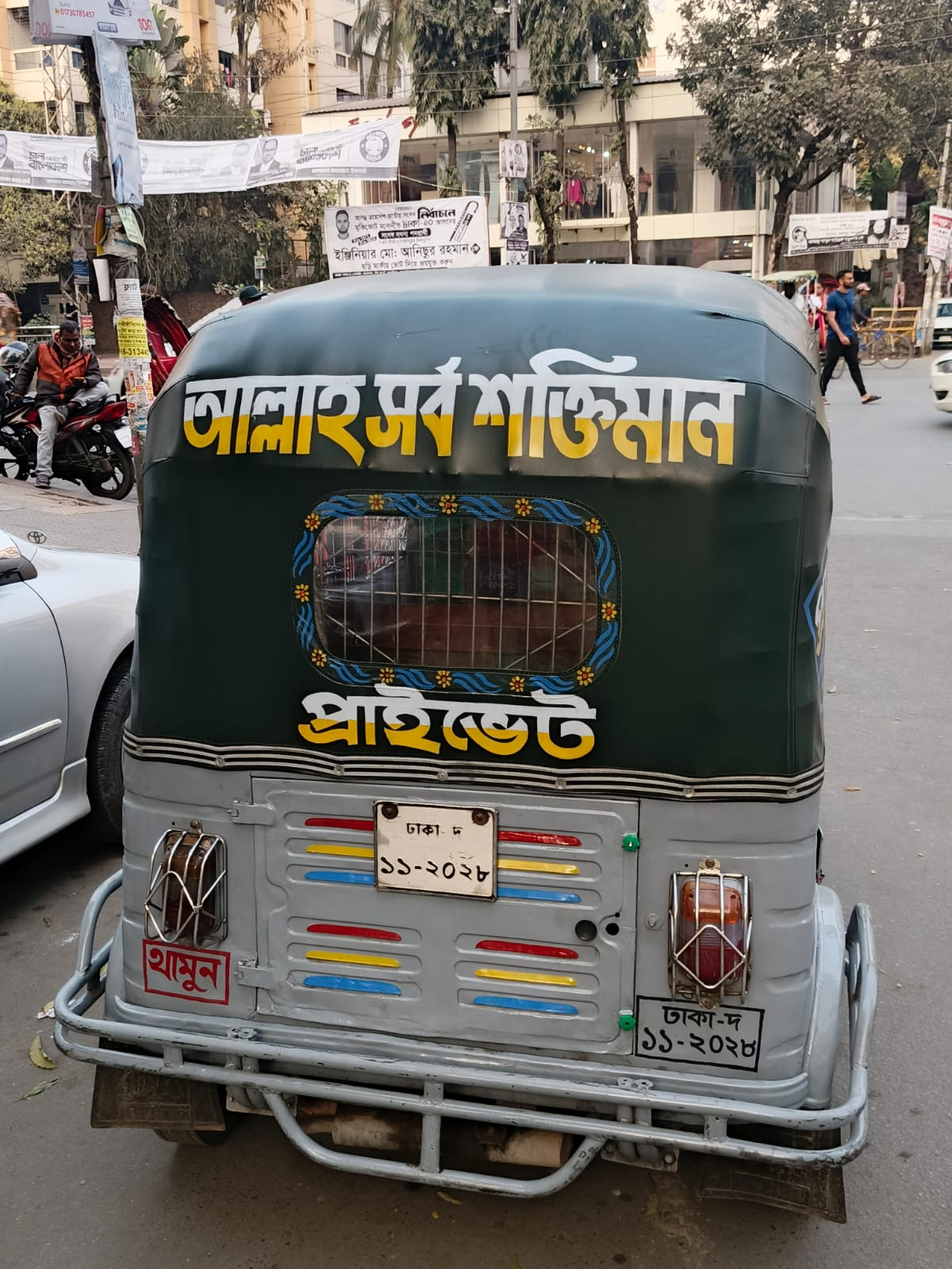cng: (52, 259, 894, 1226)
